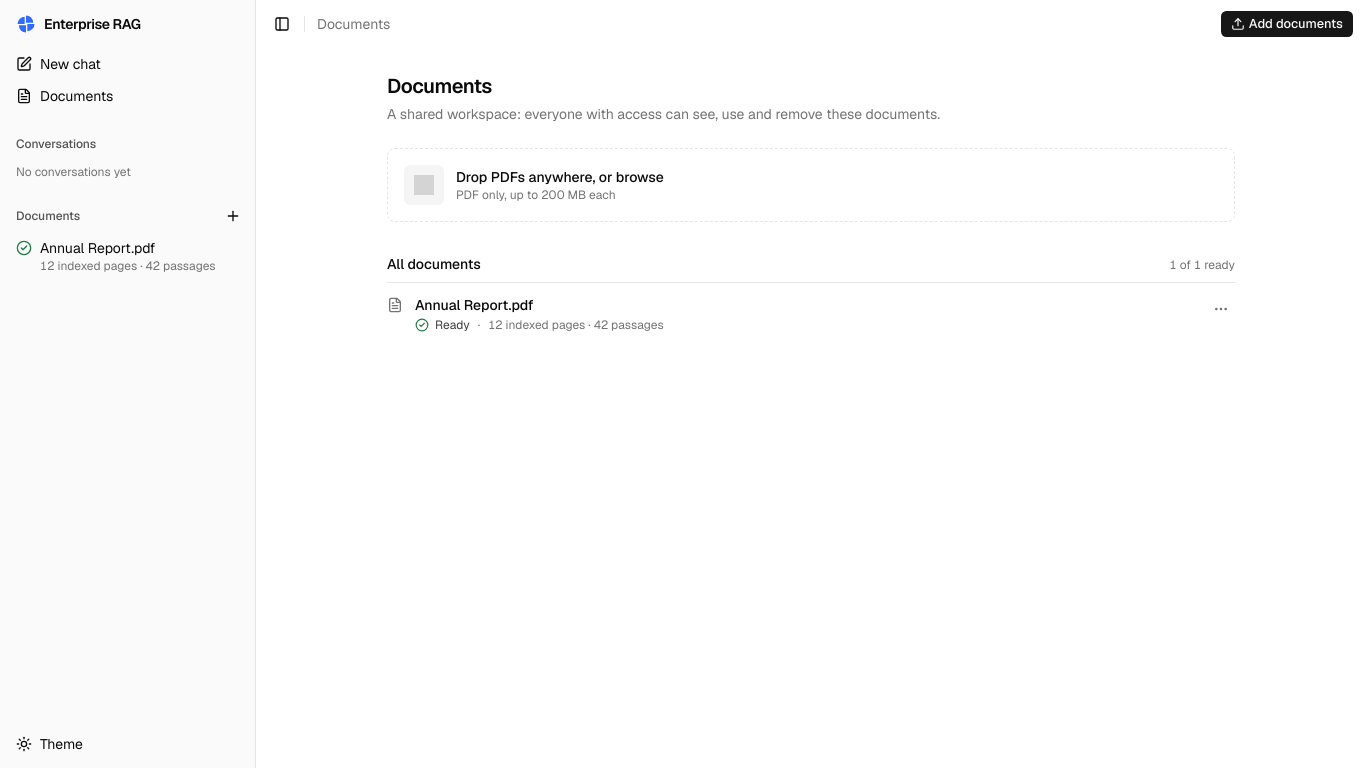
Test: deletes a document after confirmation
Step 1. Click the button named "Actions for Annual Report.pdf" → (1221, 309), box [1207, 295, 1235, 323]
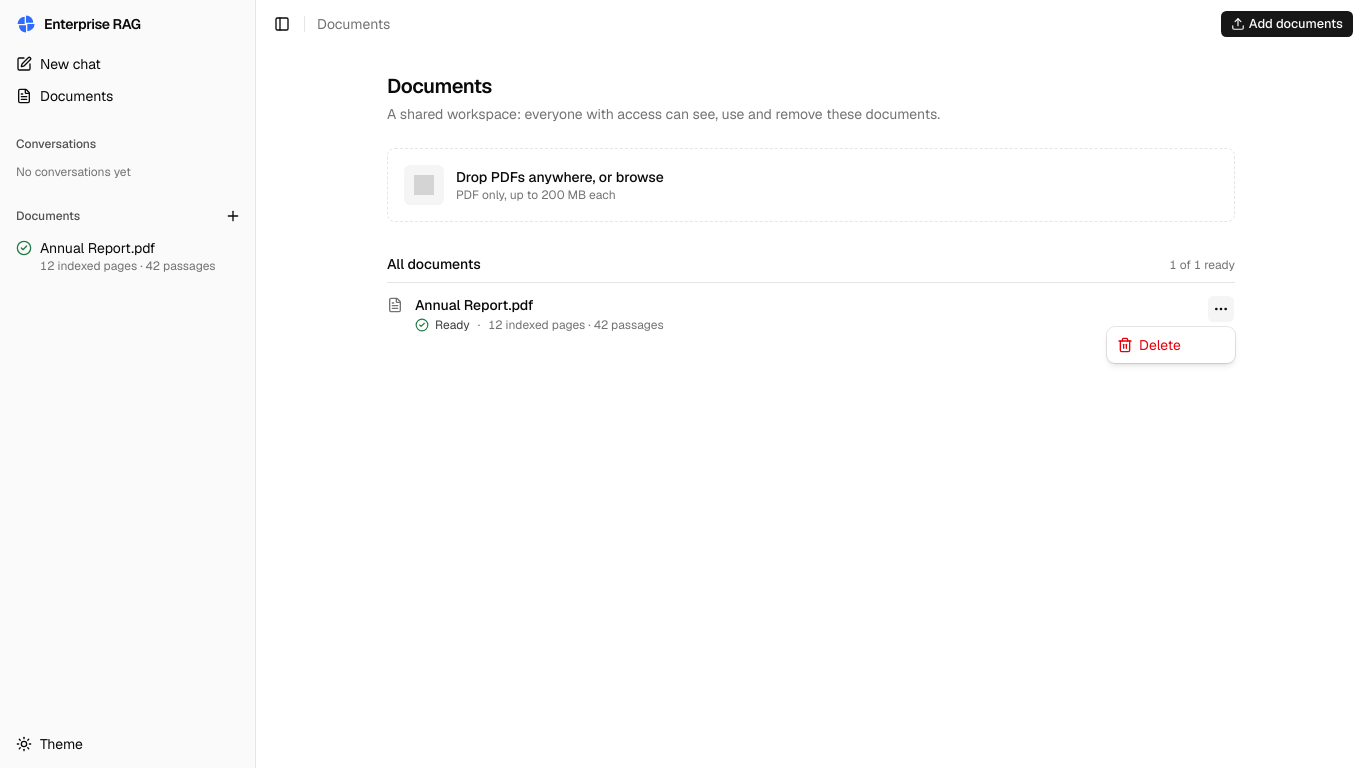
Step 2. Click the menu item "Delete" → (1149, 345), box [1117, 336, 1181, 354]
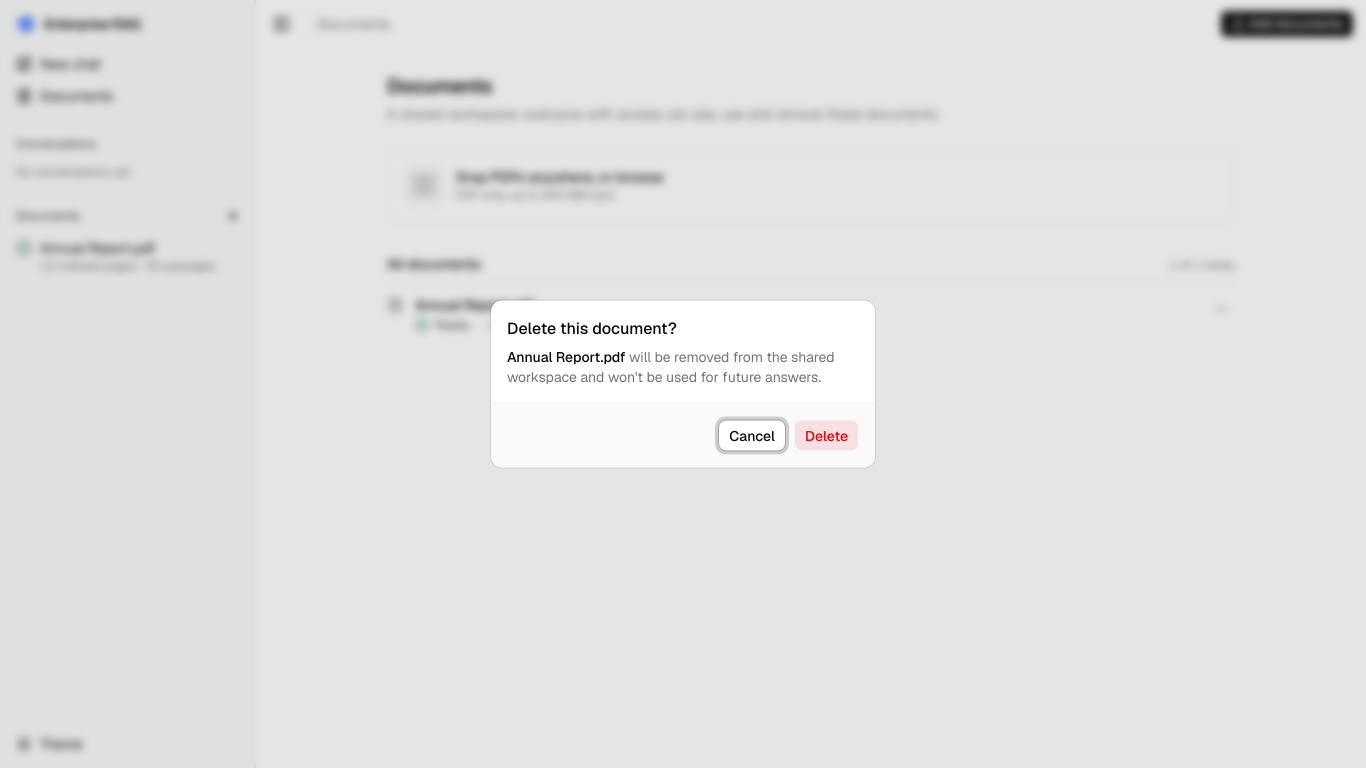
Result: the dialog "Delete this document?" shows "removed from the shared workspace" at [507, 348, 835, 386]
Step 3. Click the button "Delete" → (826, 436), box [794, 420, 859, 452]
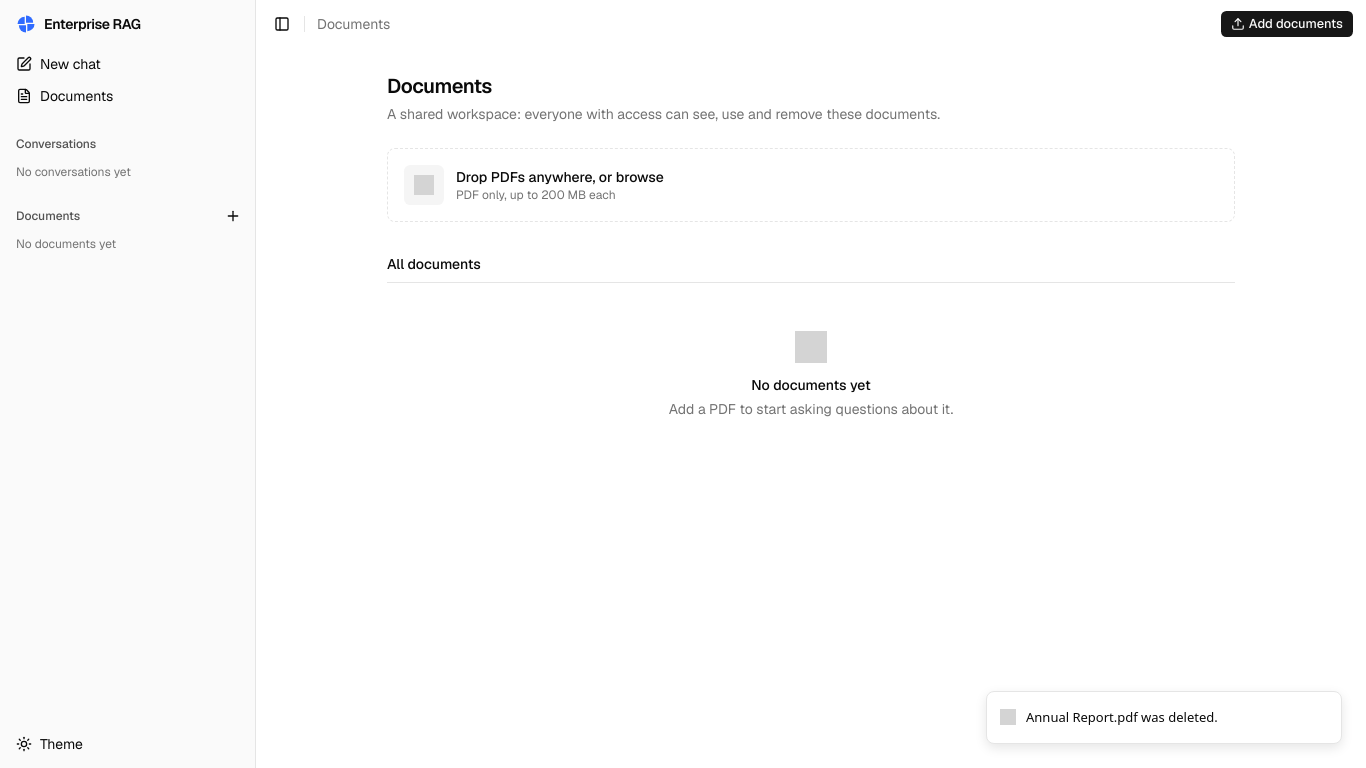
Result: the text "Annual Report.pdf was deleted." is shown at [1026, 708, 1218, 727]
Result: the dialog is gone
